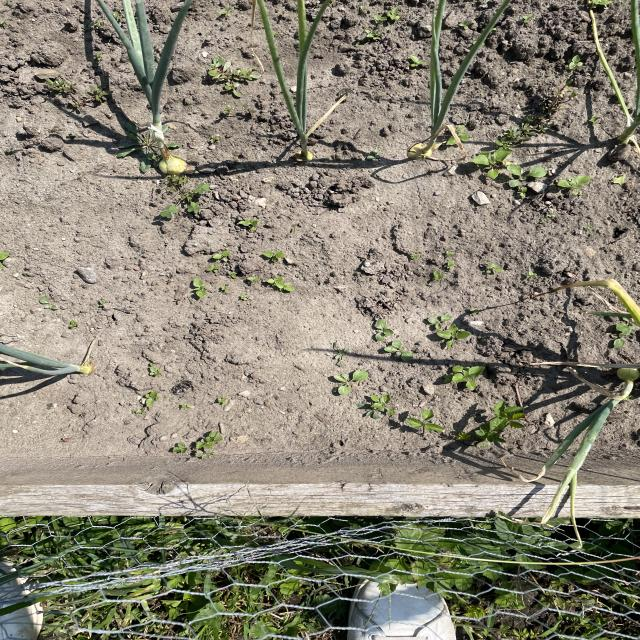Onion: (408, 0, 502, 156), (116, 0, 190, 178), (556, 353, 640, 480), (283, 7, 330, 163), (610, 0, 640, 146), (0, 343, 96, 377)
weed: (475, 142, 595, 197), (147, 428, 229, 470), (159, 172, 215, 228), (469, 401, 535, 448), (370, 316, 426, 368), (205, 51, 248, 103), (258, 246, 298, 299), (430, 312, 471, 349), (324, 369, 374, 398), (406, 408, 444, 440), (443, 362, 489, 386), (363, 394, 399, 422)
